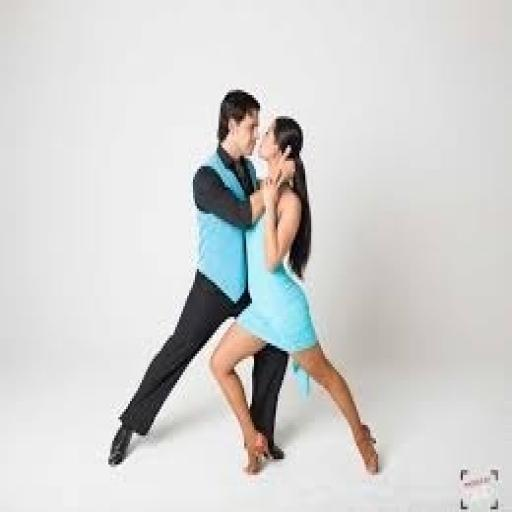dancing: (207, 114, 382, 480)
